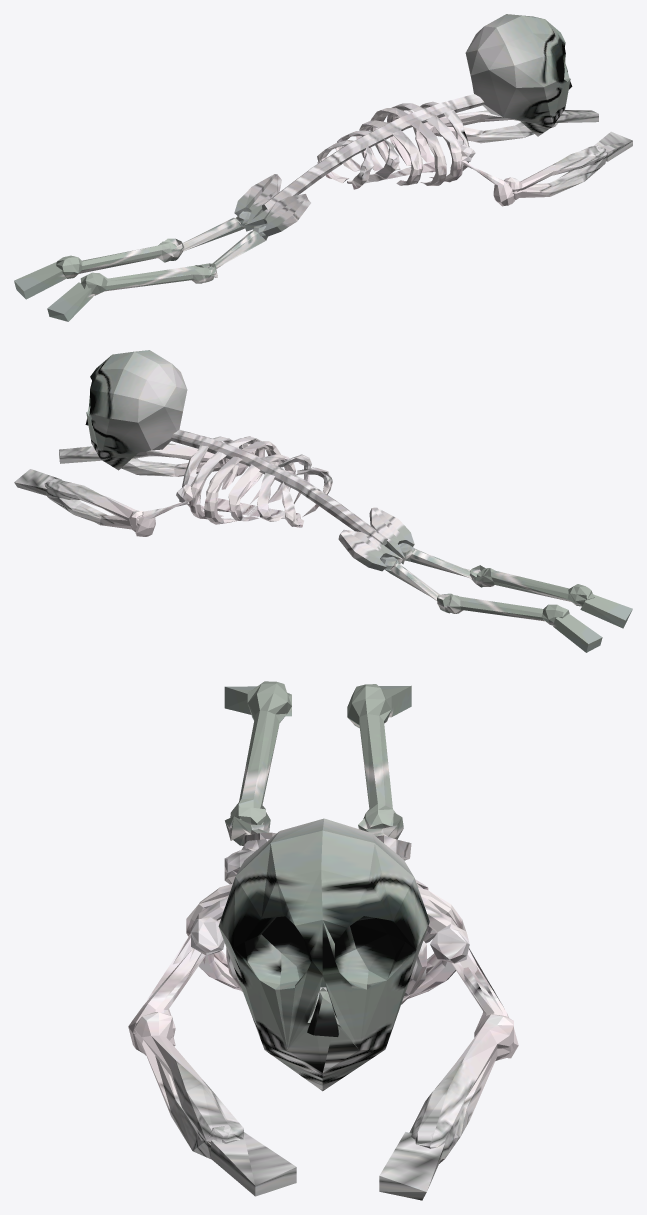
Rendered from JoeRide.glb.
The picture shows the model from 3 angles, top to bottom: view 1: azimuth 30°, elevation 25°; view 2: azimuth 150°, elevation 25°; view 3: azimuth 270°, elevation 25°; orthographic projection. The views are drawn at different scales.
Parts seen in each view (by area): view 1: JoeRide; view 2: JoeRide; view 3: JoeRide.
Boxes of the visible parts, x1,y1,x2,y2 form: JoeRide: (14, 14, 632, 321); JoeRide: (14, 350, 632, 652); JoeRide: (128, 681, 518, 1200).
Size of the model in its own units: 301 by 85.32 by 88.77.
1 material, 1 textured.
